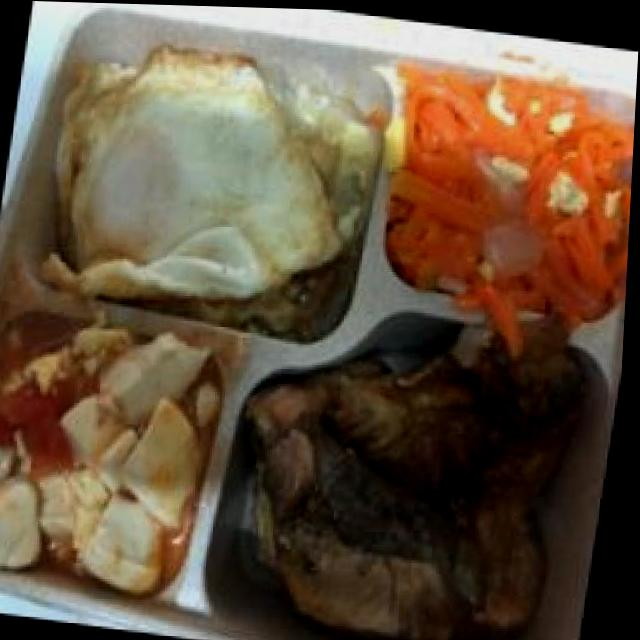carrot_eggs: (380, 64, 638, 313)
fried_eggs: (37, 31, 372, 332)
